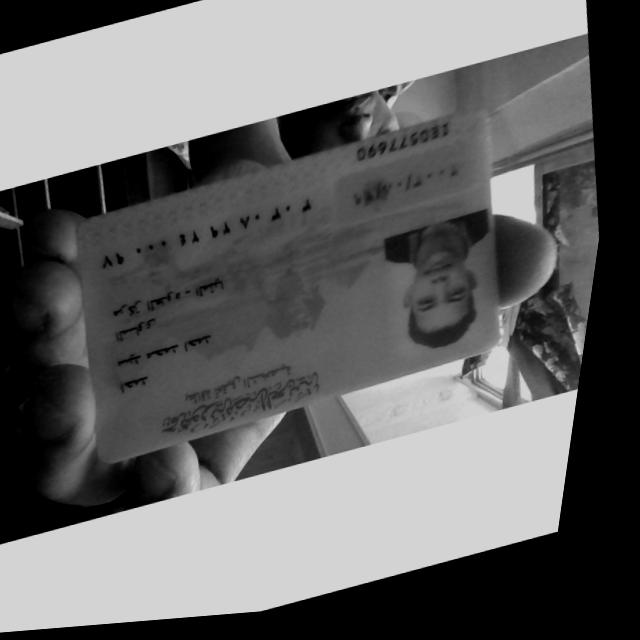id_card: (75, 111, 500, 463)
